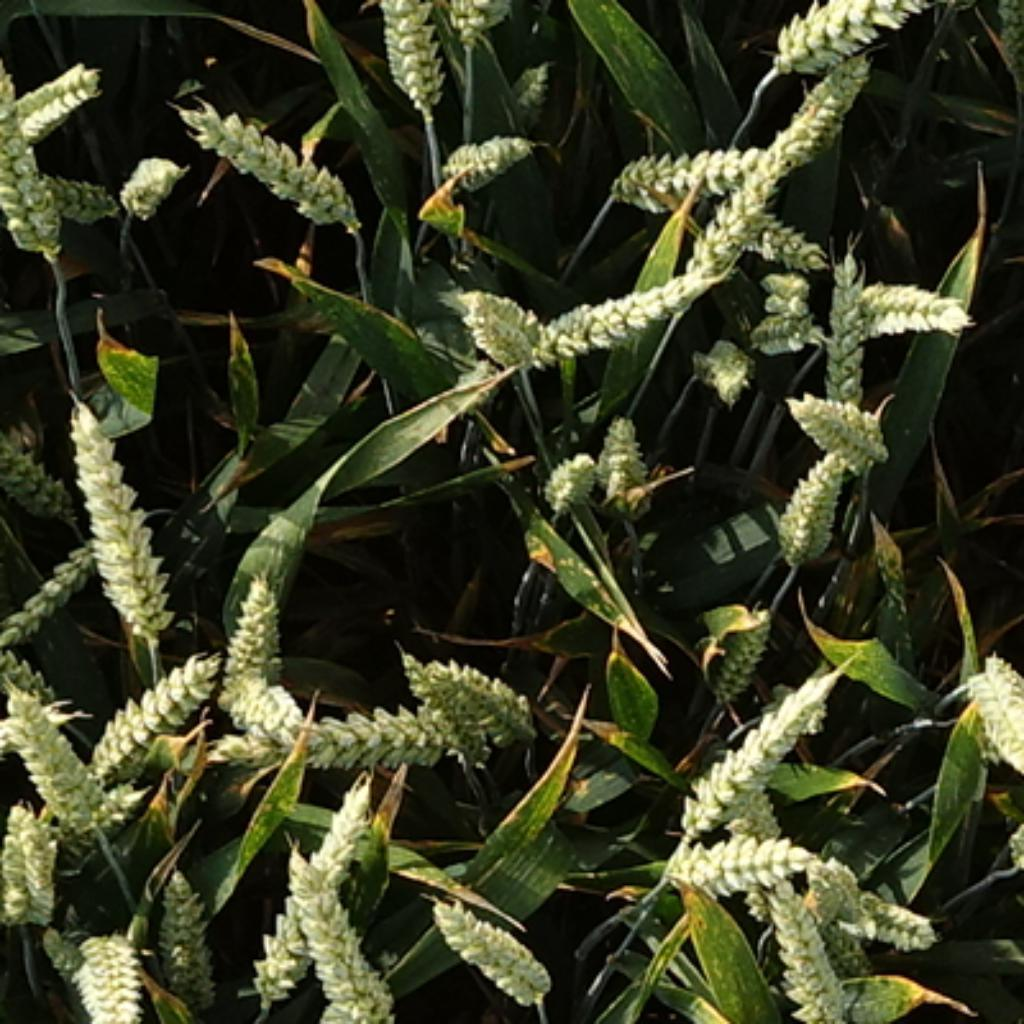0-0: (248, 773, 373, 1011), (179, 79, 368, 232), (678, 665, 847, 834), (64, 399, 179, 642), (281, 839, 401, 1024), (524, 253, 716, 358), (79, 637, 220, 775), (207, 693, 448, 770), (427, 890, 560, 1016), (2, 680, 112, 832), (755, 51, 878, 184), (2, 53, 74, 271), (599, 128, 780, 212), (760, 2, 967, 71), (760, 875, 855, 1024), (2, 532, 112, 645), (693, 150, 790, 274), (650, 826, 819, 896), (399, 642, 496, 762), (419, 650, 537, 747), (148, 865, 220, 1006), (773, 448, 852, 573), (371, 2, 460, 104), (952, 655, 1024, 780), (783, 389, 893, 468), (849, 276, 977, 343), (74, 936, 168, 1024), (455, 273, 550, 360), (826, 240, 870, 422), (10, 53, 102, 140), (2, 796, 64, 924), (222, 570, 289, 686), (698, 596, 775, 693), (215, 657, 314, 732), (435, 120, 537, 189), (2, 424, 69, 524), (852, 888, 949, 957), (742, 209, 834, 273), (0, 694, 92, 758), (593, 407, 655, 496), (35, 166, 125, 227), (117, 151, 189, 220), (491, 53, 555, 130), (690, 343, 761, 406), (801, 847, 862, 916), (537, 440, 599, 506), (87, 778, 153, 834), (2, 642, 58, 706), (737, 780, 793, 844), (442, 2, 519, 48), (744, 314, 824, 355), (760, 268, 814, 325), (38, 931, 99, 980), (991, 2, 1024, 89)
